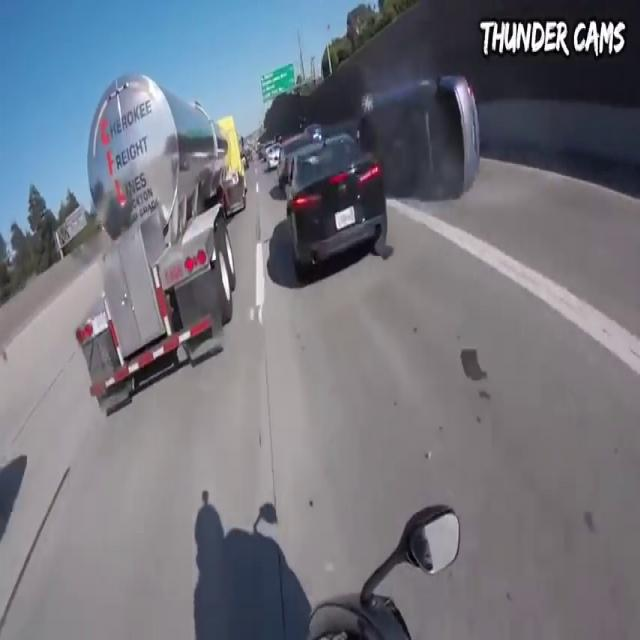accident: (353, 63, 505, 221)
